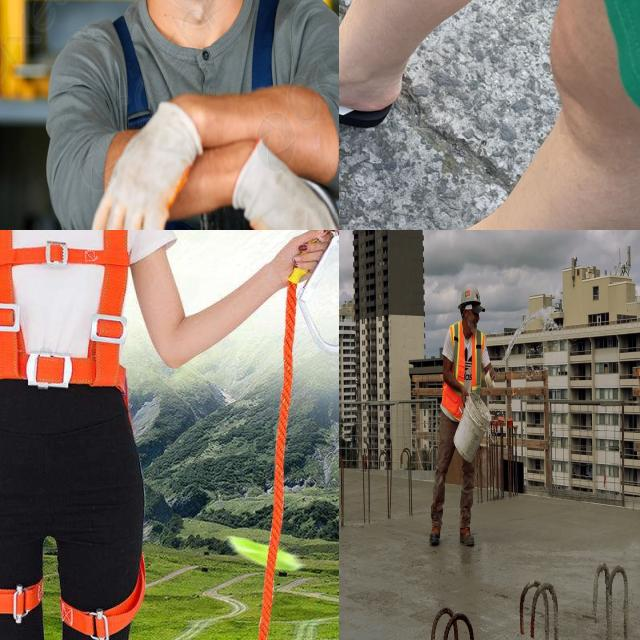Harness: (0, 230, 142, 640)
Sandals: (339, 0, 553, 230)
boots: (460, 518, 476, 553), (432, 522, 442, 547)
head_helmet: (458, 286, 484, 312)
person: (430, 283, 493, 553)
vest: (440, 321, 484, 423)
